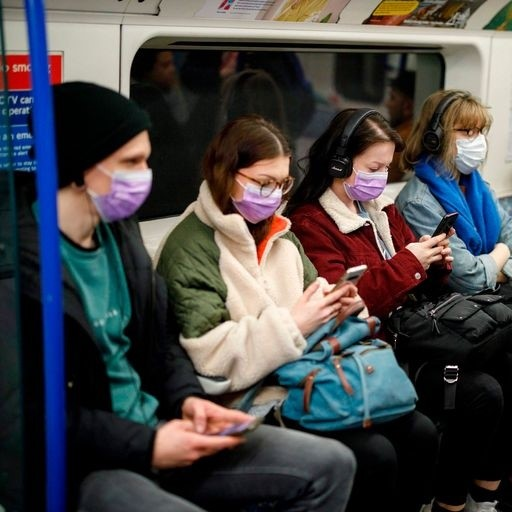face_with_mask: (53, 80, 159, 228), (211, 119, 296, 225), (317, 104, 399, 212), (417, 89, 492, 178)
